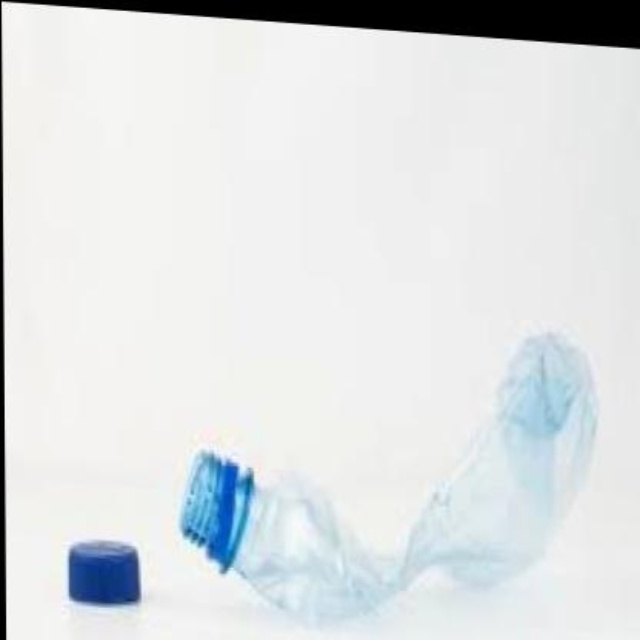trash: (180, 331, 595, 618), (180, 449, 391, 618), (69, 540, 138, 602)
